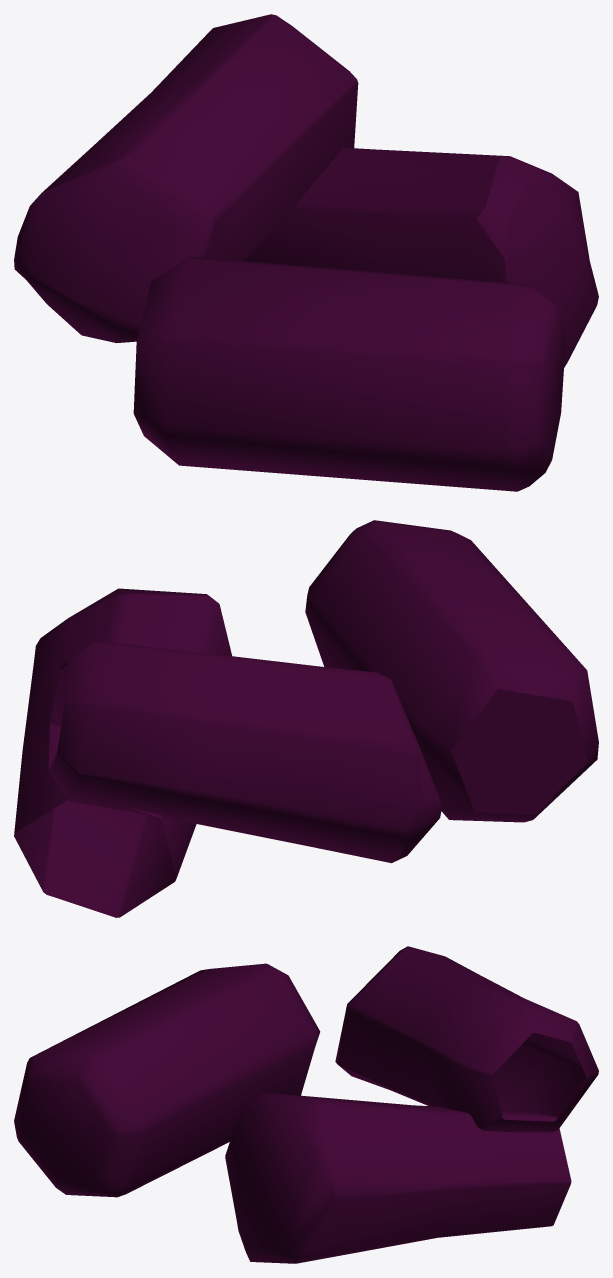
Rendered from Cty_Bld_CrystaResource01_Mod.FBX.
3 renders of one model, top to bottom at view 1: azimuth 30°, elevation 25°; view 2: azimuth 150°, elevation 25°; view 3: azimuth 270°, elevation 25°, orthographic. The views are drawn at different scales.
Parts seen in each view (by area): view 1: Wmp_Bld_CrystaResource01_Mod; view 2: Wmp_Bld_CrystaResource01_Mod; view 3: Wmp_Bld_CrystaResource01_Mod.
Boxes of the visible parts, x1,y1,x2,y2 form: Wmp_Bld_CrystaResource01_Mod: (14, 14, 598, 491); Wmp_Bld_CrystaResource01_Mod: (14, 520, 598, 917); Wmp_Bld_CrystaResource01_Mod: (14, 946, 598, 1263).
Bounding box in the file's own units: 540 × 675 × 283.
